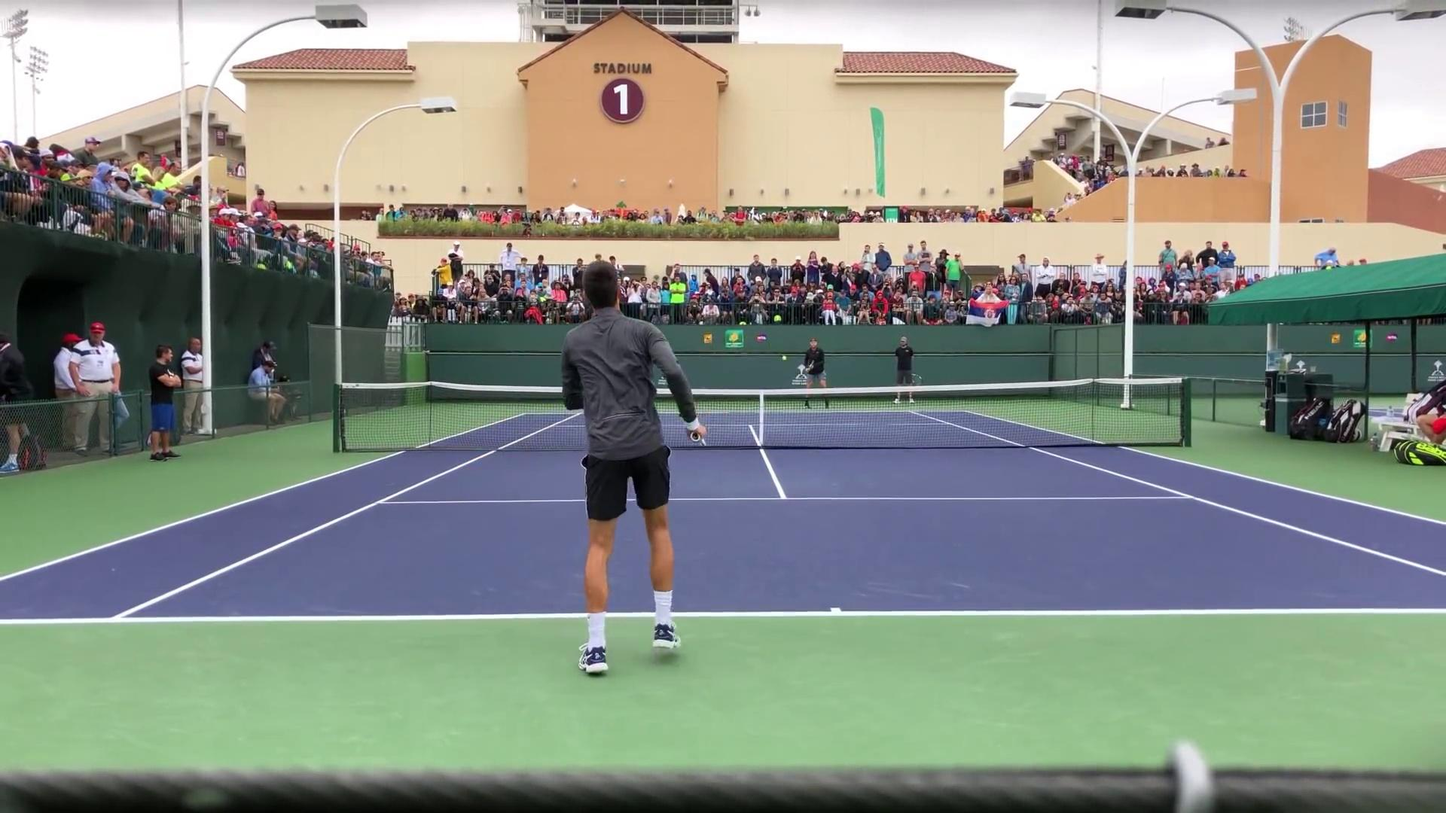ball: (781, 354, 788, 362)
